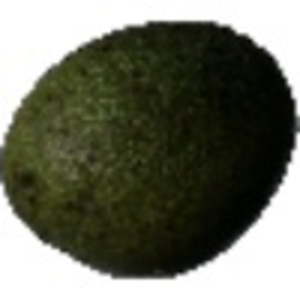abacate: (2, 15, 299, 278)
